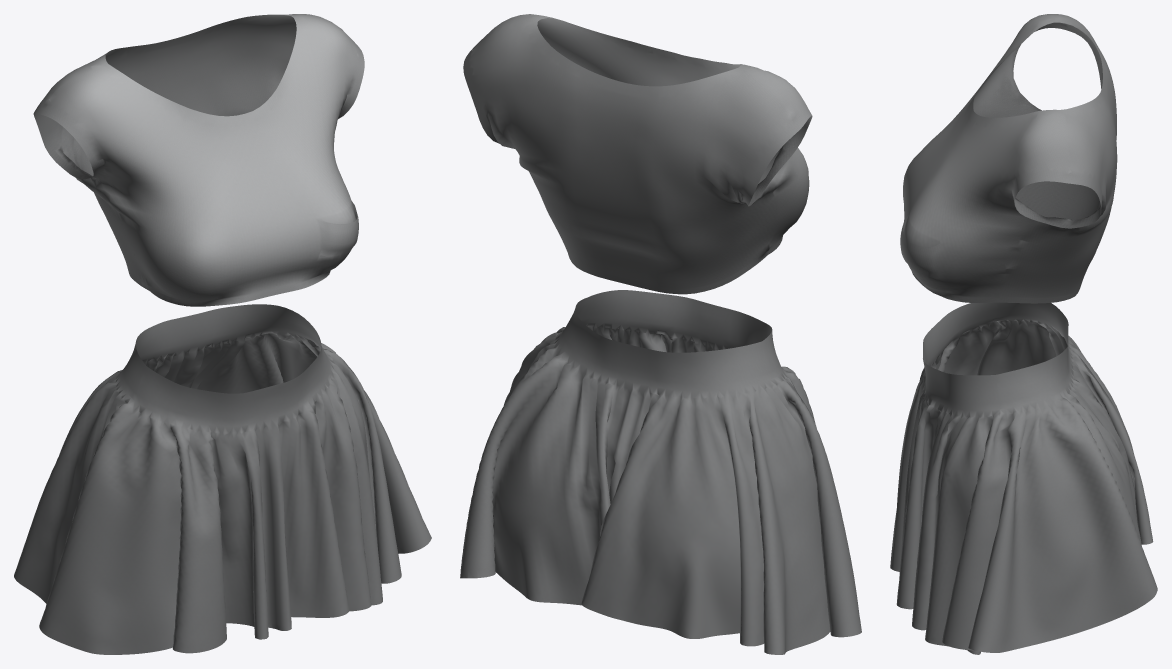
File: croptop4.glb
3 renders of one model, left to right at view 1: azimuth 30°, elevation 25°; view 2: azimuth 150°, elevation 25°; view 3: azimuth 270°, elevation 25°, orthographic. The views are drawn at different scales.
Parts seen in each view (by area): view 1: Object_2, Object_3; view 2: Object_2, Object_3; view 3: Object_2, Object_3.
Boxes of the visible parts, x1,y1,x2,y2 form: Object_2: (14,304,431,654); Object_3: (33,14,364,306); Object_2: (460,290,861,654); Object_3: (463,14,812,294); Object_2: (890,302,1157,654); Object_3: (900,14,1117,303).
Size of the model in its own units: 45.13 by 62.65 by 29.01.
Materials: 2 (2 with a texture image).
